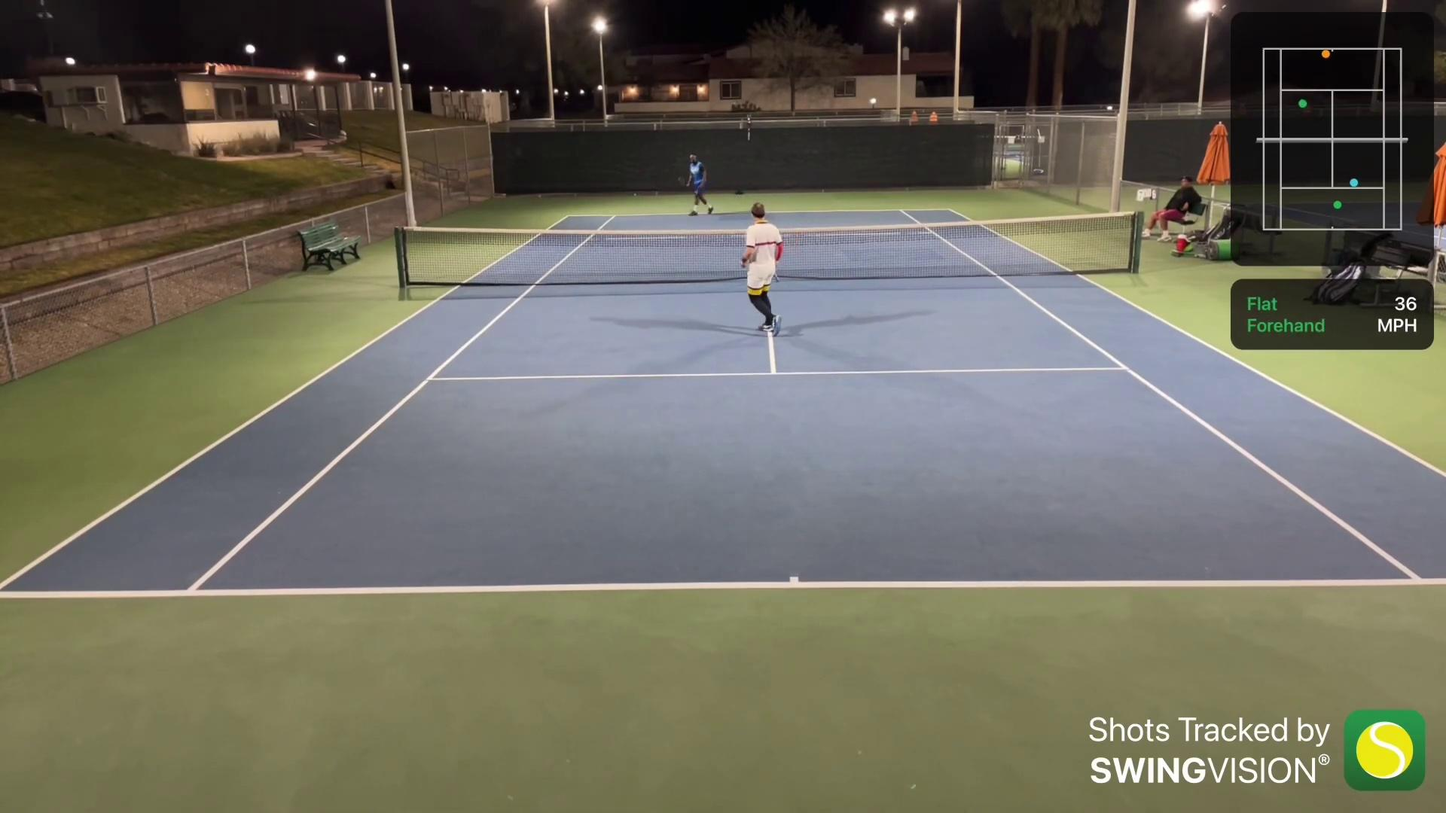ball: (631, 191, 638, 198), (535, 194, 545, 198)
